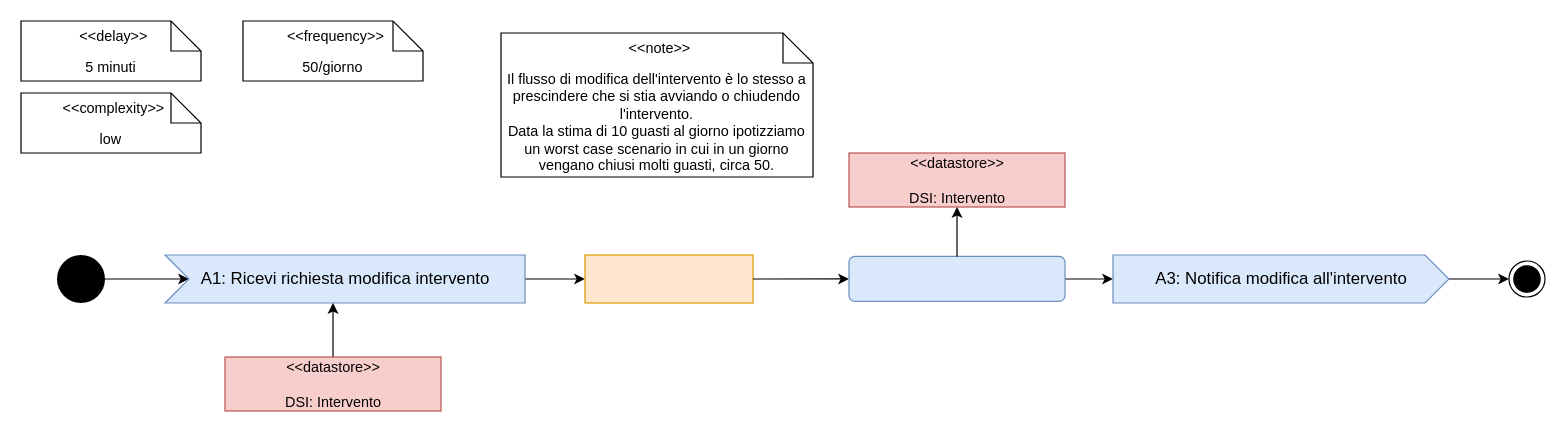
The diagram is 1566 pixels wide and 432 high, and some of its shapes have lost their labels. The shapes that lost their labels are listed below. From the top down, each one's box as (x1, y1, x2, y2) in pixels, then its label:
(584, 254, 753, 303): D1: Intervento
(848, 255, 1065, 301): A2: Modifica intervento
